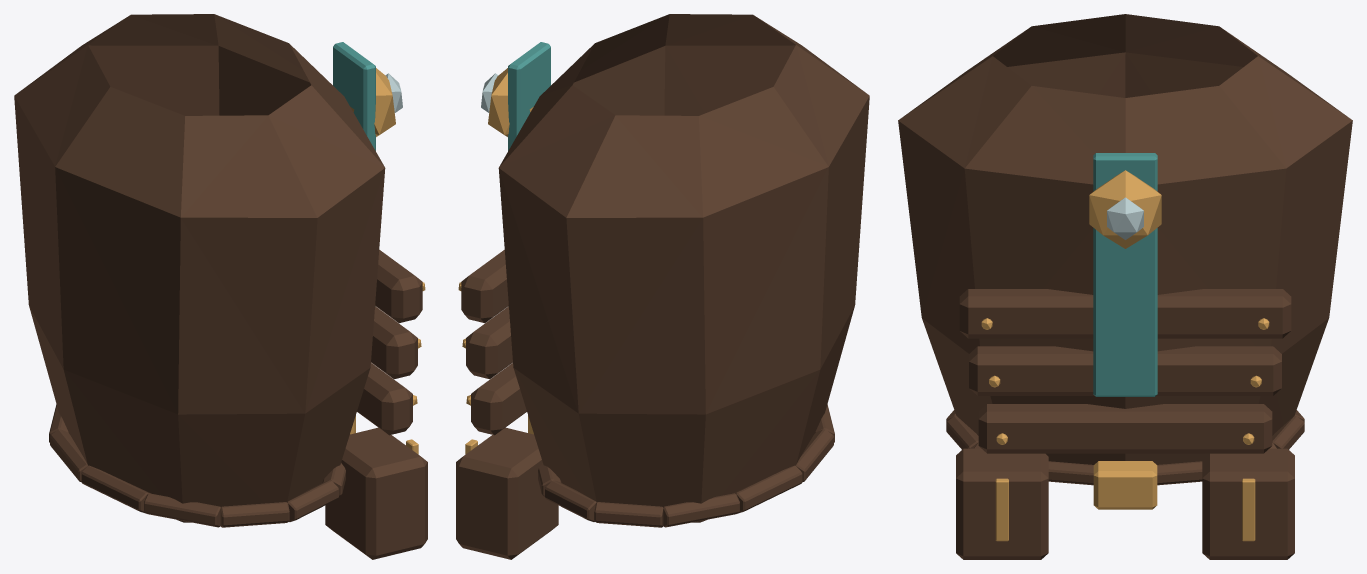
File: SM_Life_Chest_Hunter.fbx
3 views of the same model, side by side, from view 1: azimuth 30°, elevation 25°; view 2: azimuth 150°, elevation 25°; view 3: azimuth 270°, elevation 25° (orthographic). The views are drawn at different scales.
Visible parts, largest first — view 1: SM_Life_Chest_Hunter; view 2: SM_Life_Chest_Hunter; view 3: SM_Life_Chest_Hunter.
Boxes of the visible parts, box(x1,y1,x2,y2) form: SM_Life_Chest_Hunter: box(14, 14, 427, 559); SM_Life_Chest_Hunter: box(456, 14, 869, 559); SM_Life_Chest_Hunter: box(898, 14, 1352, 559).
Size of the model in its own units: 40.45 by 51.15 by 48.
